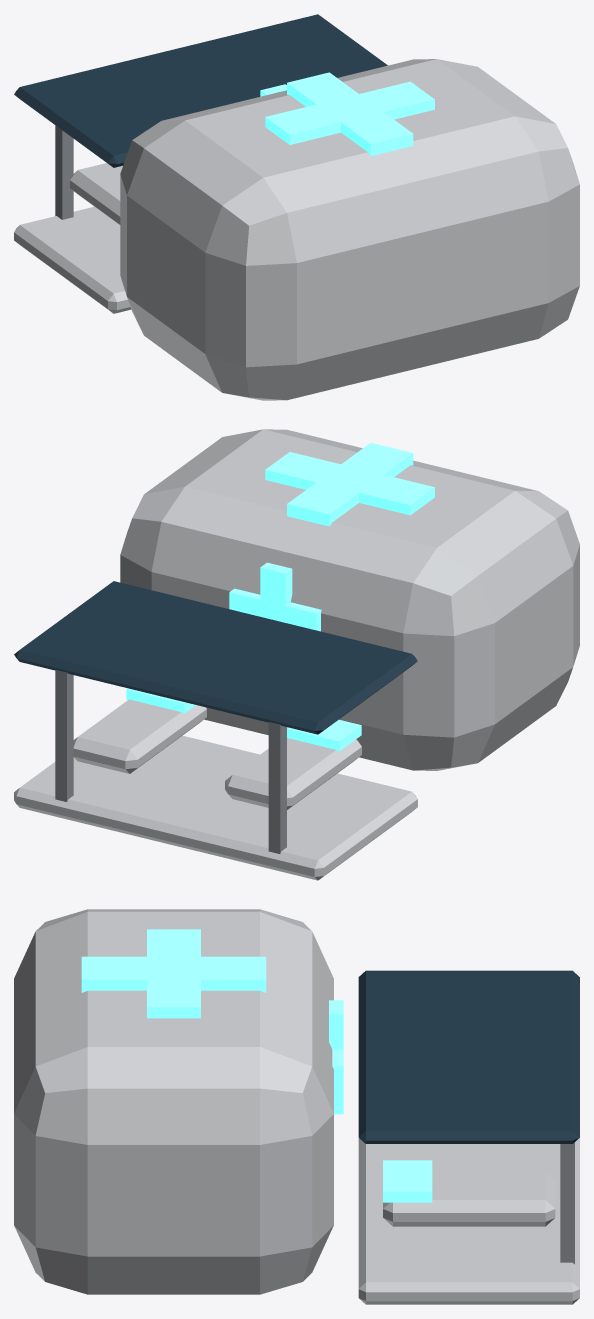
File: infirmary.glb
3 views of the same model, one above another, from view 1: azimuth 30°, elevation 25°; view 2: azimuth 150°, elevation 25°; view 3: azimuth 270°, elevation 25° (orthographic). The views are drawn at different scales.
Visible parts, largest first — view 1: infirmary; view 2: infirmary; view 3: infirmary.
Part boxes in pixels (<box>): infirmary: <box>14,14,579,400</box>; infirmary: <box>14,429,579,880</box>; infirmary: <box>14,909,579,1304</box>.
Size of the model in its own units: 1.9 by 1.15 by 2.3.
